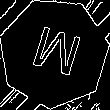M_S: (25, 22, 83, 84)
